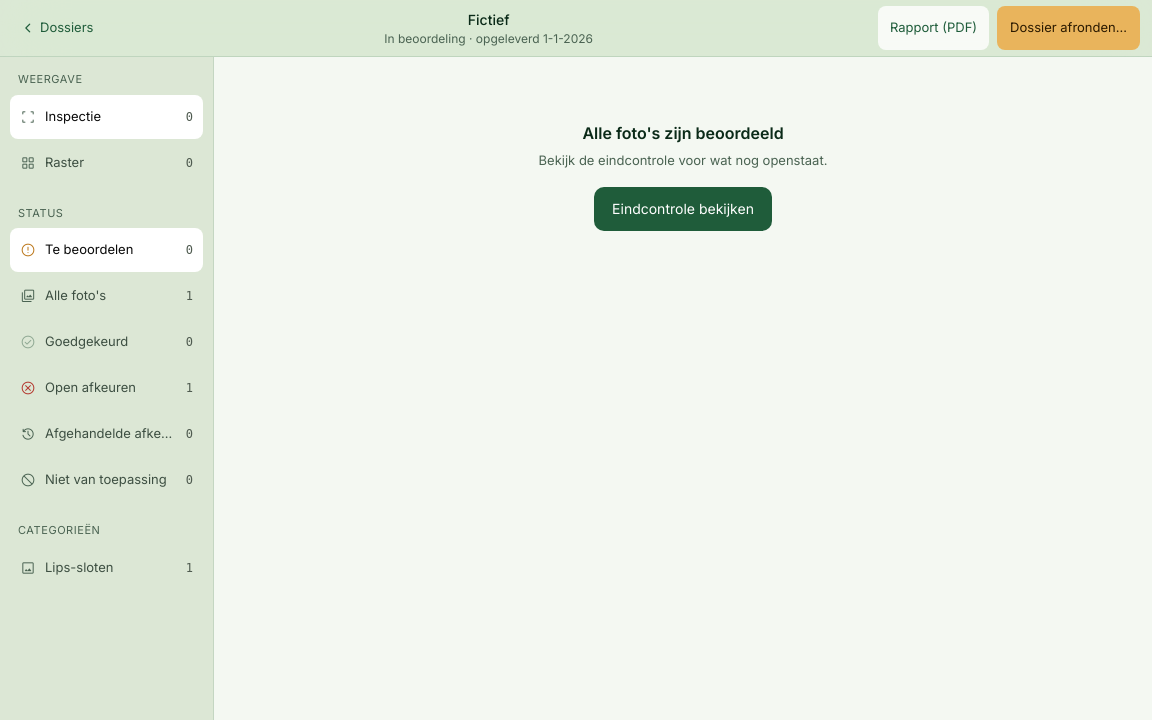
Test case: review fase 1 — B: zichtbare acties en sneltoetsen › A on an open rejection does no approved-RPC; explicit handling keeps rejected + history
The image size is (1152, 720).
Later steps or results of the test are not shown.
Click the button "Open afkeuren 1" at x=106, y=388, box top-left (10, 366), bottom-right (203, 410)
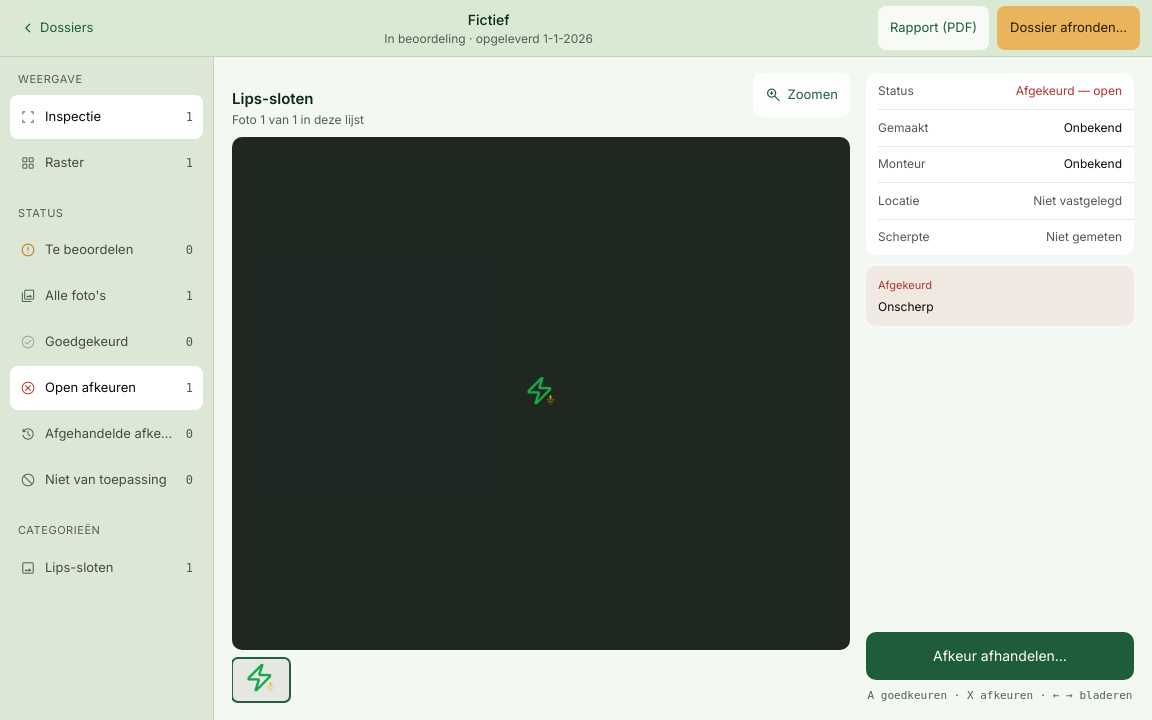
Expected: the button "Afkeur afhandelen…" is shown, top-left (866, 632), bottom-right (1134, 680)
